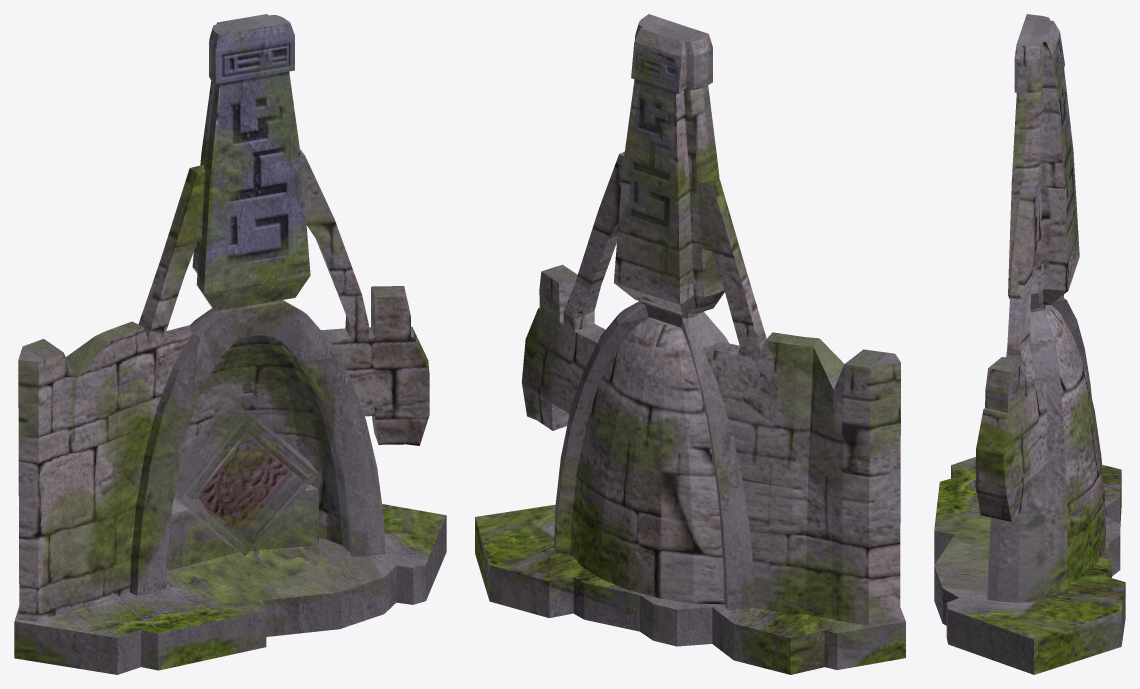
3 views of the same model, side by side, from view 1: azimuth 30°, elevation 25°; view 2: azimuth 150°, elevation 25°; view 3: azimuth 270°, elevation 25° (orthographic). The views are drawn at different scales.
Bounding box in the file's own units: 7.94 × 10.11 × 3.17.
Materials: 1 (1 with a texture image).
